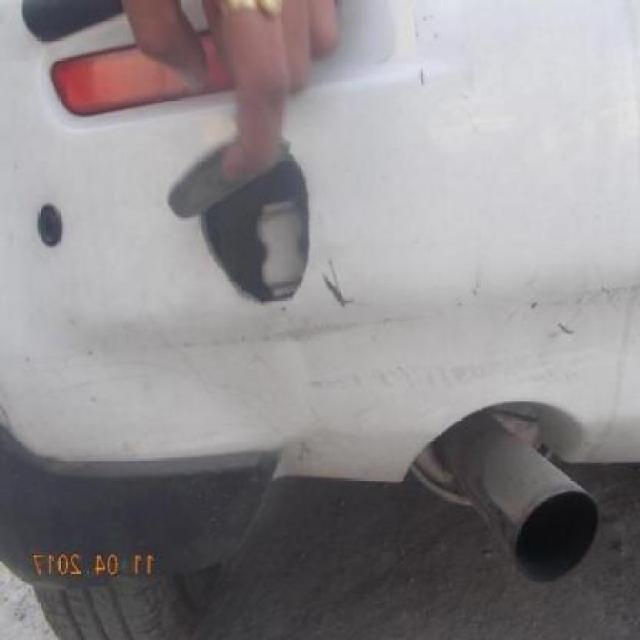damage: (189, 137, 319, 305), (168, 297, 447, 356), (309, 351, 579, 390), (489, 291, 586, 341), (404, 13, 436, 86), (320, 252, 355, 312)
